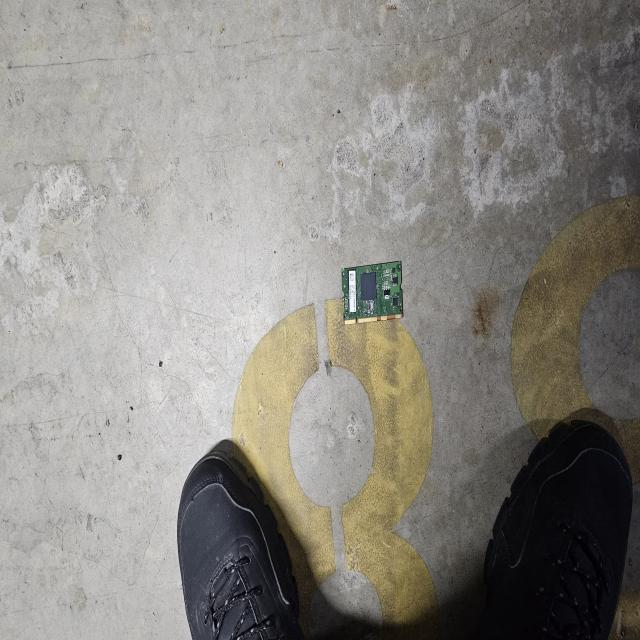som: (339, 260, 410, 330)
